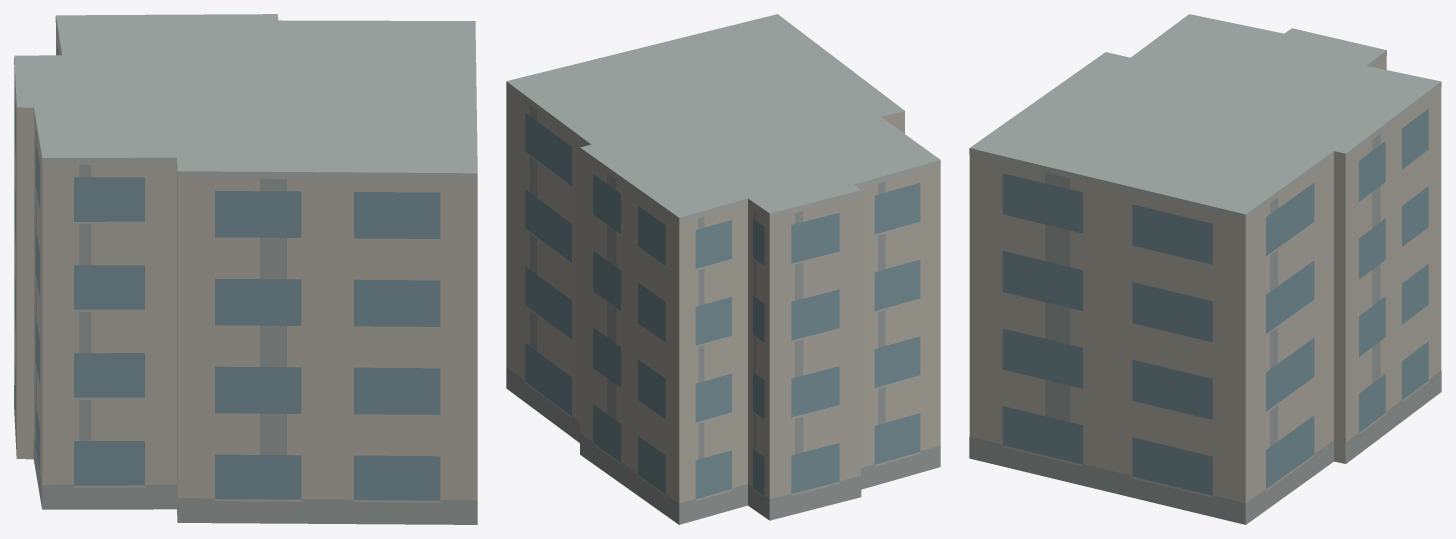
File: residential-672ba1ac-8cab-408b-9334-e923674076b6.glb
3 renders of one model, left to right at view 1: azimuth 30°, elevation 25°; view 2: azimuth 150°, elevation 25°; view 3: azimuth 270°, elevation 25°, orthographic. The views are drawn at different scales.
Visible parts, largest first — view 1: residential-672ba1ac-8cab-408b-9334-e923674076b6.tmp; view 2: residential-672ba1ac-8cab-408b-9334-e923674076b6.tmp; view 3: residential-672ba1ac-8cab-408b-9334-e923674076b6.tmp.
Part boxes in pixels (left/top/right/bottom): residential-672ba1ac-8cab-408b-9334-e923674076b6.tmp: left=14, top=14, right=477, bottom=524; residential-672ba1ac-8cab-408b-9334-e923674076b6.tmp: left=506, top=14, right=940, bottom=524; residential-672ba1ac-8cab-408b-9334-e923674076b6.tmp: left=969, top=14, right=1441, bottom=524.
Bounding box in the file's own units: 16.91 × 12.2 × 16.82.
